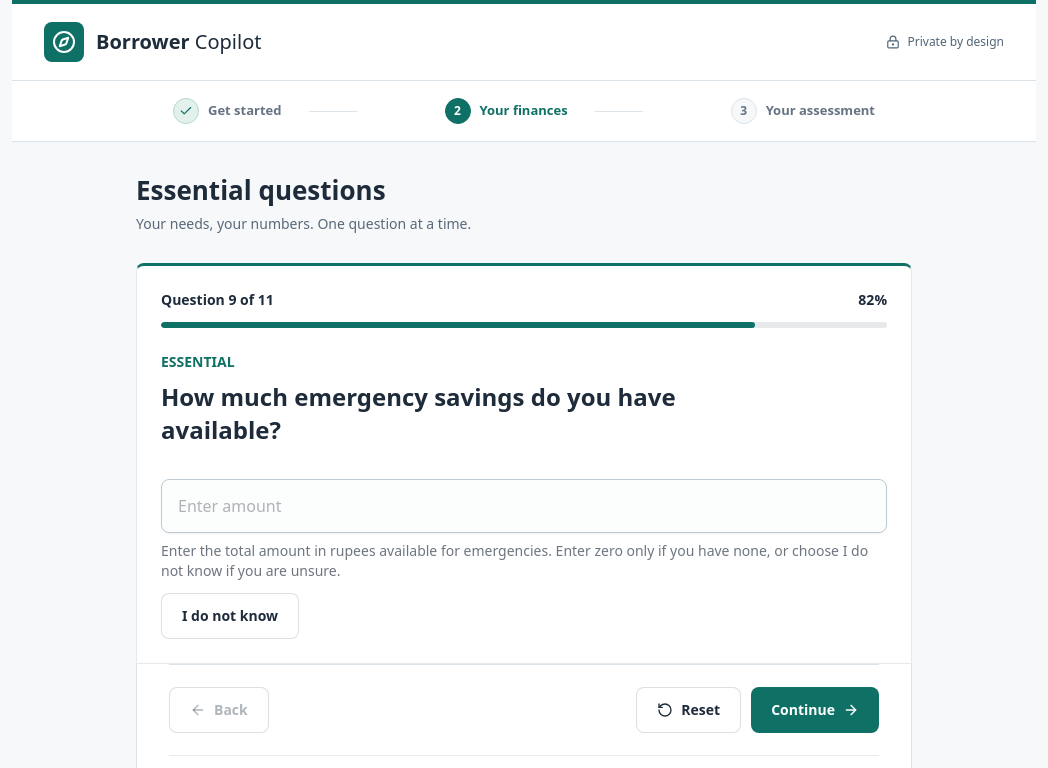
Scenario: emergency savings form-to-engine regression › stores 135000 as rupees and derives coverage from monthly expenses
Type "135000" into the field named "how much emergency savings" at (524, 506), box 161,479 -> 887,533
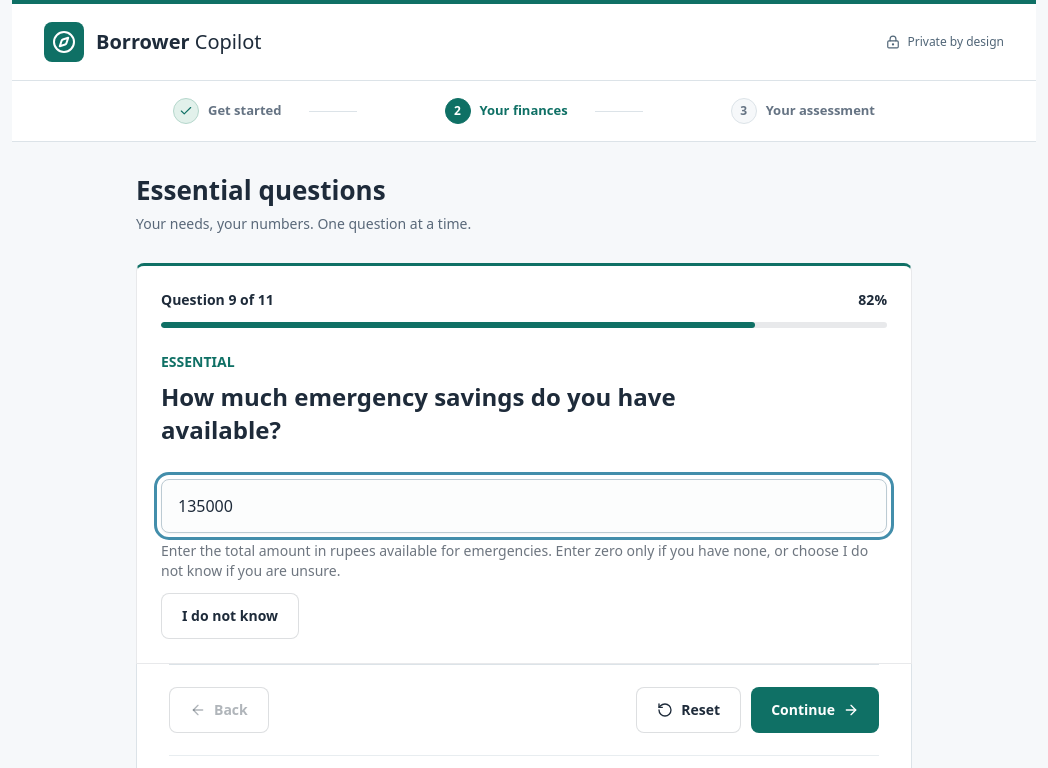
Press Enter
(page scrolled)
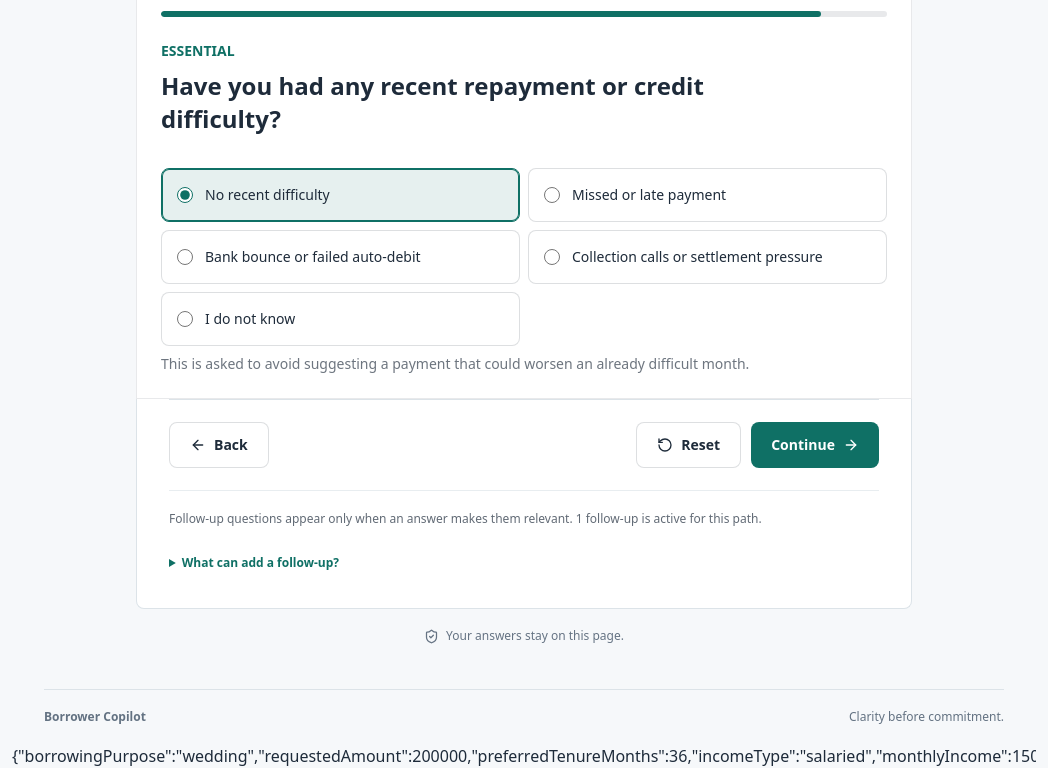
Click the button "Back" at (219, 445), box 169,422 -> 269,468
(page scrolled)
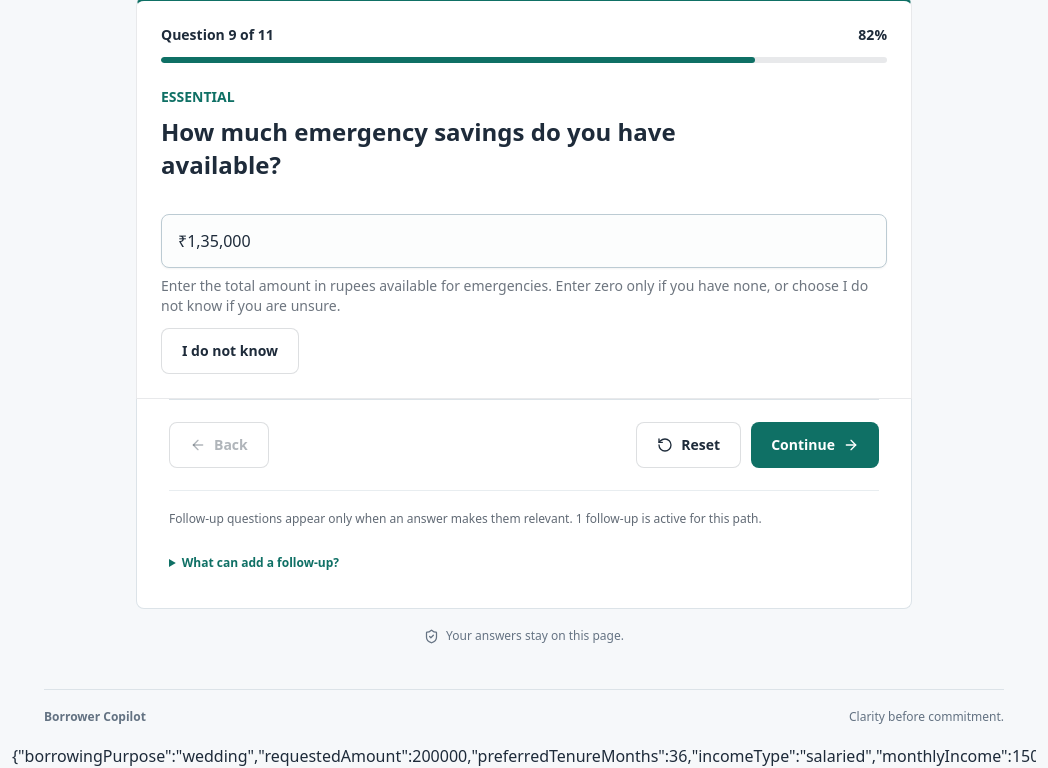
Click the field named "how much emergency savings" at (524, 241), box 161,214 -> 887,268
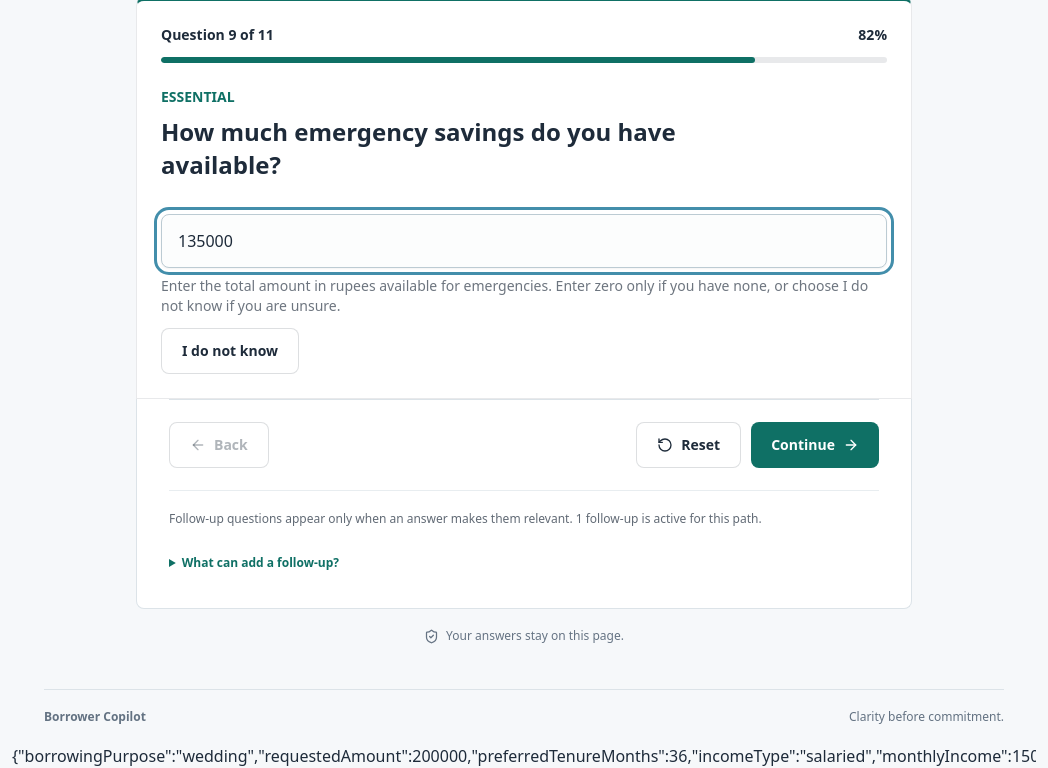
Result: the field named "how much emergency savings" holds "135000" at 161,214 -> 887,268
